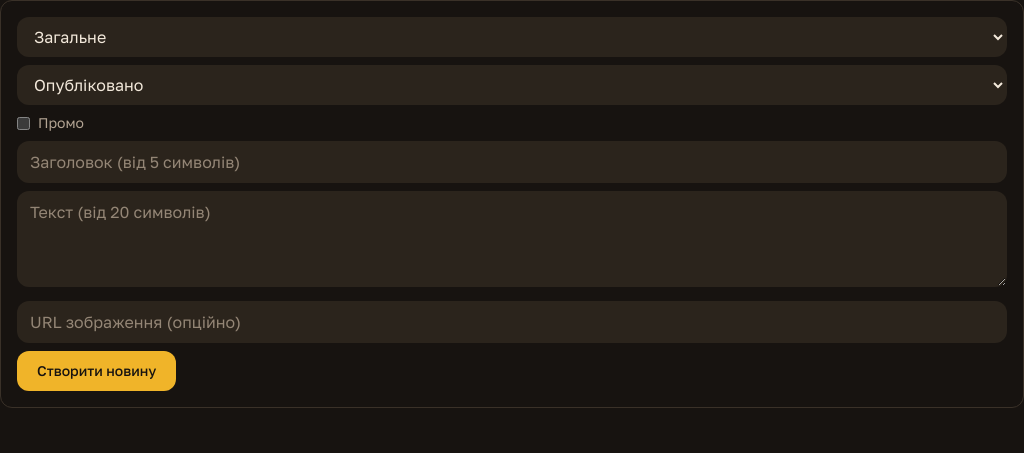
Scenario: AdminNewsCreateForm › валідація: короткий заголовок → inline помилка, fetch не викликається
Type "Хело" into the field named "Заголовок новини" at (512, 162), box [17, 141, 1007, 183]
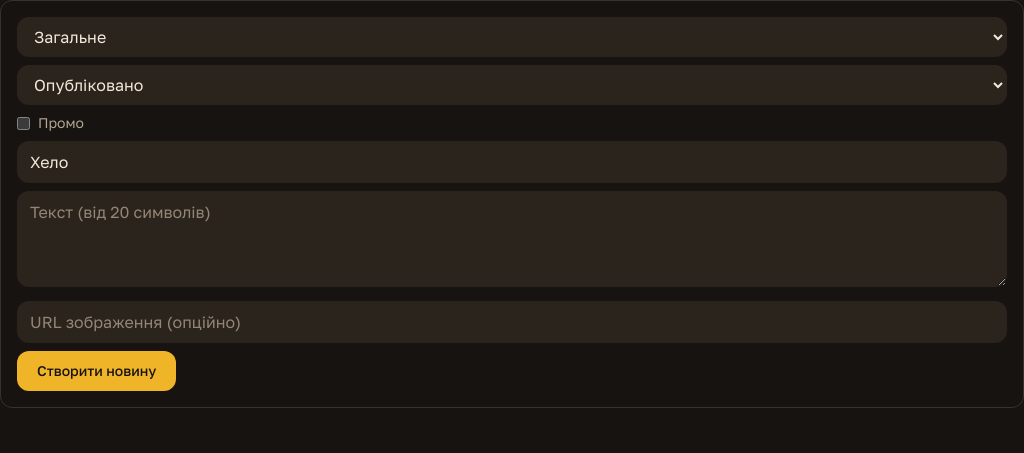
Click the button "Створити новину" at (97, 371), box [17, 351, 176, 391]
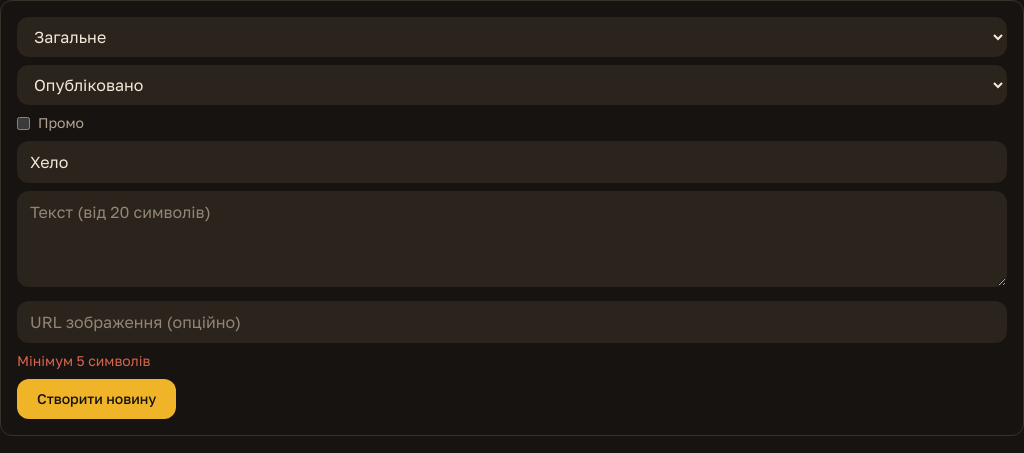
Check: the message reads "Мінімум 5 символів", box [17, 352, 150, 369]
